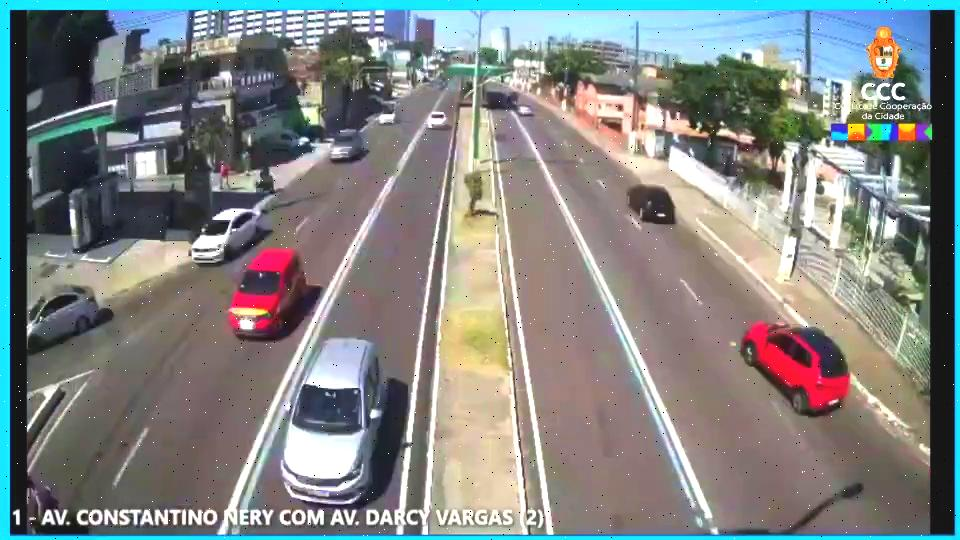car: (278, 337, 394, 506), (738, 315, 850, 417), (227, 246, 304, 334), (25, 282, 99, 346), (187, 204, 259, 266), (628, 180, 680, 229), (327, 126, 365, 166), (425, 111, 448, 132)
